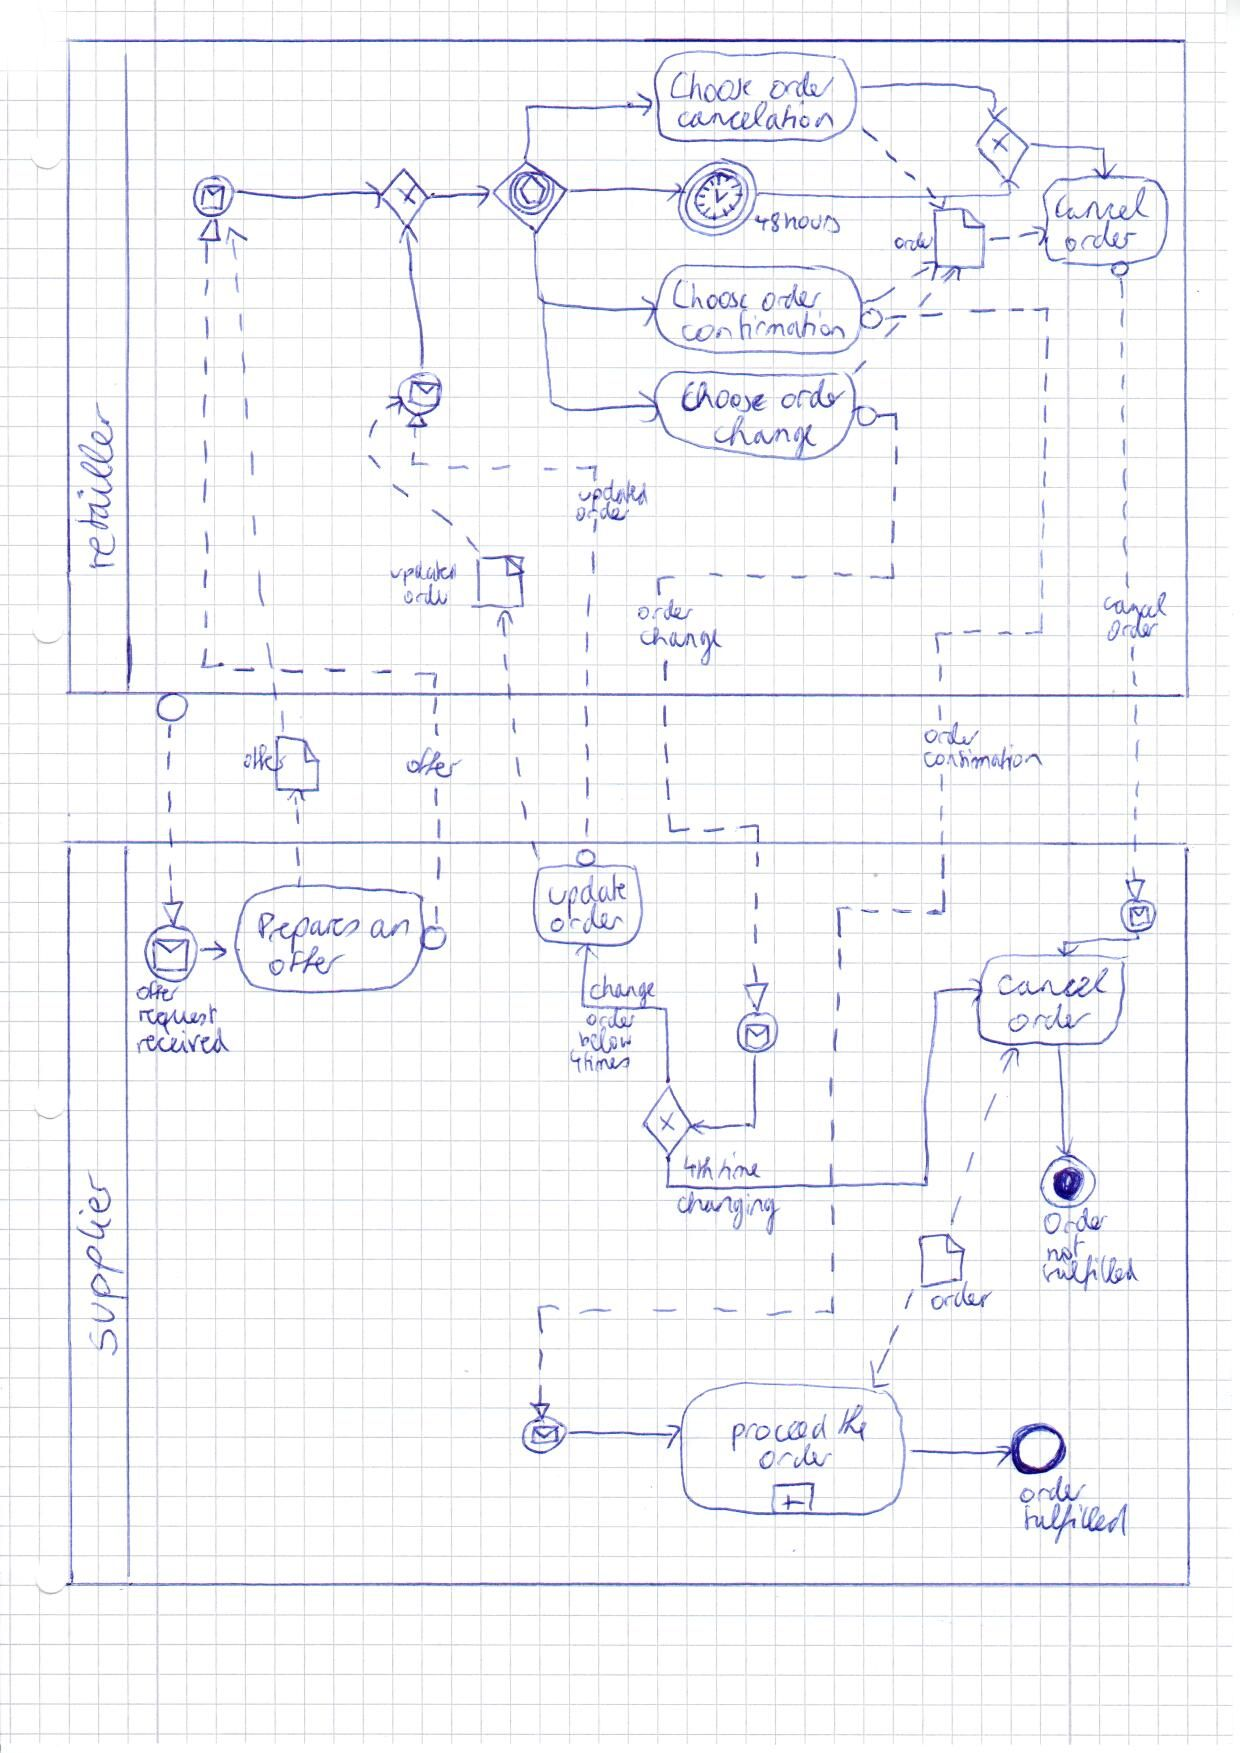48: (754, 211, 781, 235)
4th: (679, 1154, 711, 1183)
4times: (568, 1050, 633, 1076)
Prepares: (255, 911, 352, 944)
an: (360, 911, 413, 946)
below: (582, 1028, 633, 1050)
cancel: (993, 965, 1108, 1001), (1047, 191, 1155, 226), (1098, 595, 1168, 621)
cancelation: (672, 105, 837, 134)
change: (709, 417, 820, 452), (635, 625, 723, 655), (578, 977, 662, 1003)
changing: (674, 1195, 776, 1217)
choose: (676, 379, 772, 416), (667, 62, 753, 103), (676, 277, 750, 317)
confirmation: (676, 313, 855, 344), (923, 742, 1041, 768)
fulfilled: (1021, 1503, 1131, 1542), (1035, 1259, 1145, 1285)
hours: (782, 211, 844, 239)
not: (1045, 1242, 1082, 1260)
offer: (266, 944, 357, 981), (401, 748, 468, 783), (239, 748, 286, 770), (136, 979, 177, 1000)
order: (746, 1443, 843, 1478), (777, 379, 848, 416), (1057, 223, 1137, 256), (756, 281, 825, 318), (772, 68, 832, 107), (1004, 1003, 1088, 1030), (568, 1007, 651, 1034), (1041, 1208, 1104, 1240), (922, 721, 982, 754), (1017, 1476, 1088, 1503), (548, 911, 624, 930), (635, 601, 690, 625), (931, 1289, 989, 1311), (393, 589, 454, 609), (892, 227, 934, 255), (1107, 620, 1161, 642), (573, 503, 628, 522)
proceed: (738, 1416, 816, 1446)
received: (132, 1024, 225, 1059)
request: (133, 1001, 213, 1032)
retailler: (76, 401, 126, 574)
supplier: (72, 1174, 123, 1353)
the: (836, 1404, 871, 1442)
time: (711, 1154, 768, 1187)
update: (545, 872, 633, 905), (386, 561, 458, 587)
updated: (578, 481, 654, 505)
